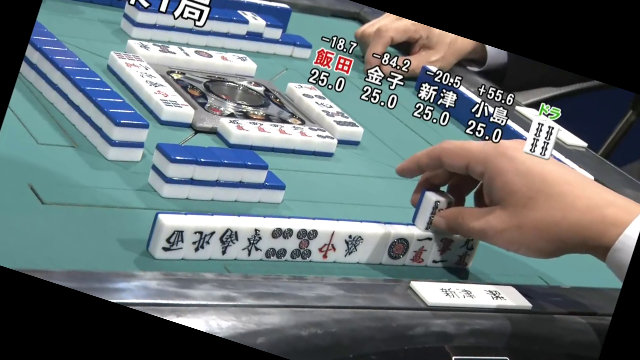Tehai: (143, 204, 481, 275)
